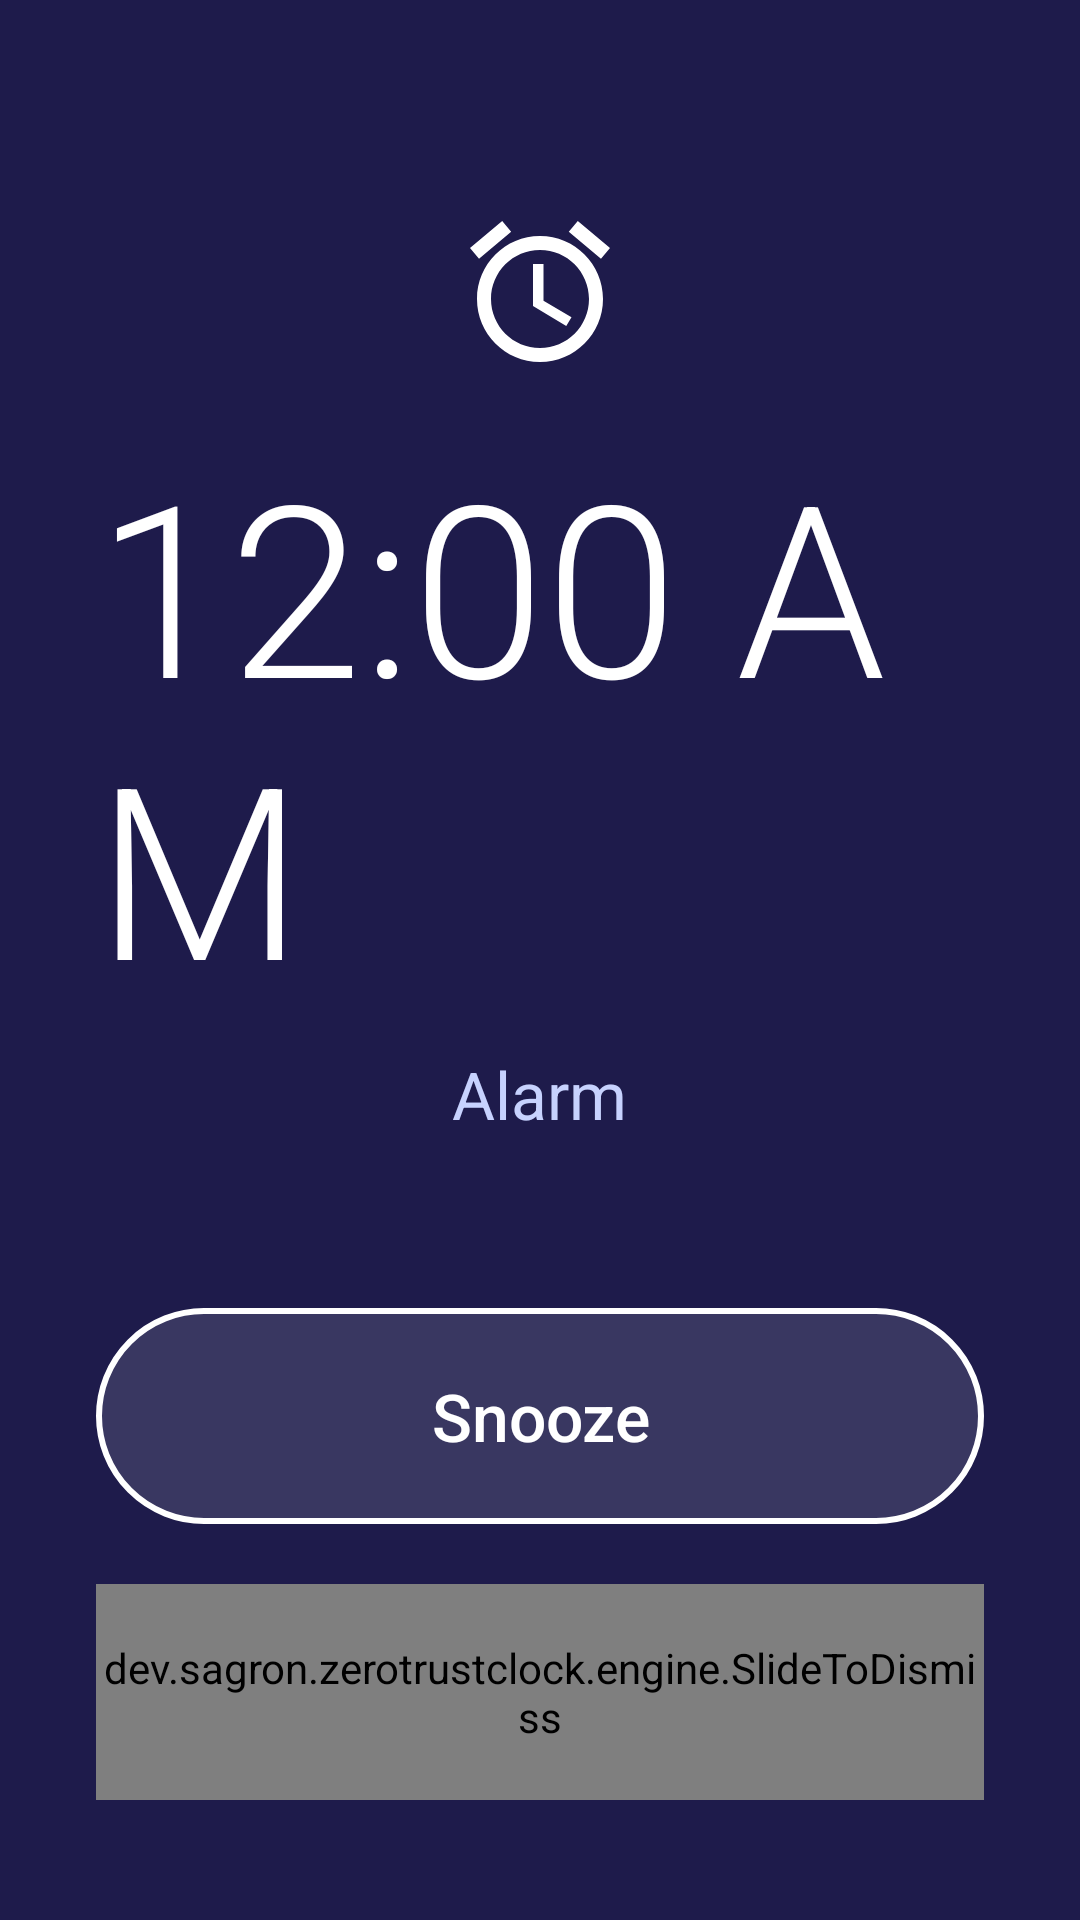

Screen size 1080x1920. Icon name, then its center in pixels as [x,y]:
alarm: [540,291]
